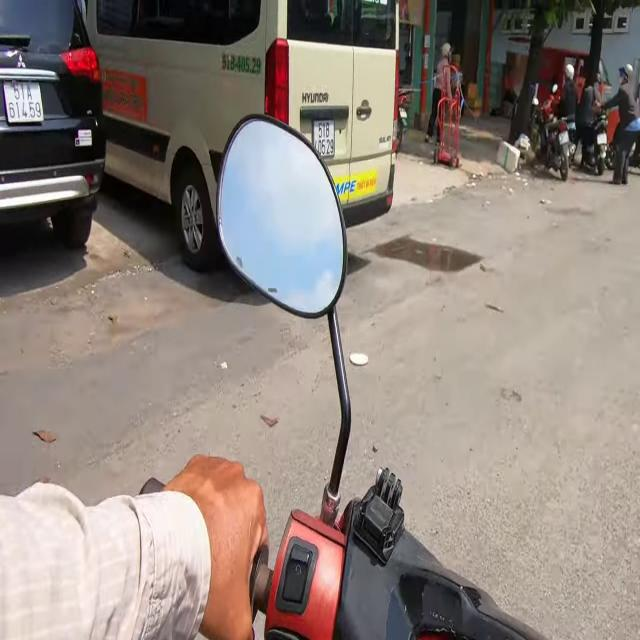bien_trang: (3, 78, 44, 124), (312, 119, 336, 160)
